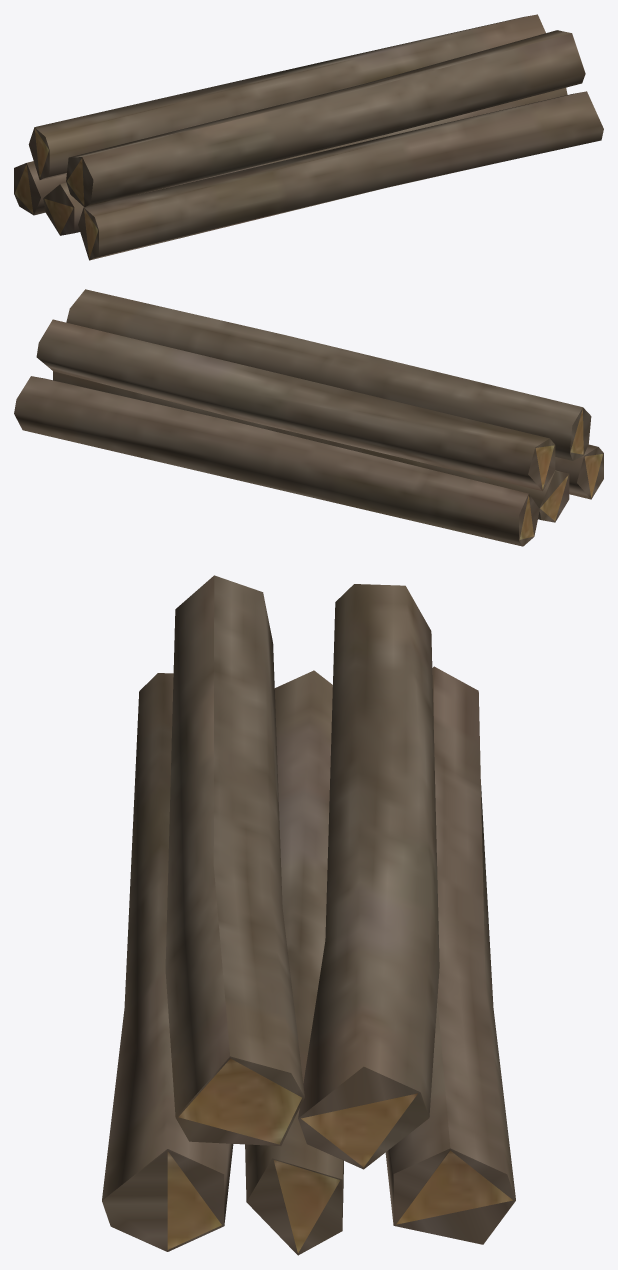
File: log-pile-s.lod1.glb
The picture shows the model from 3 angles, top to bottom: view 1: azimuth 30°, elevation 25°; view 2: azimuth 150°, elevation 25°; view 3: azimuth 270°, elevation 25°; orthographic projection. The views are drawn at different scales.
Parts seen in each view (by area): view 1: Cylinder.008_Log_0; view 2: Cylinder.008_Log_0; view 3: Cylinder.008_Log_0.
Part boxes in pixels (x1,y1,x2,y2): Cylinder.008_Log_0: (14,14,603,260); Cylinder.008_Log_0: (14,289,603,546); Cylinder.008_Log_0: (102,575,515,1255).
Bounding box in the file's own units: 3.2 × 0.5996 × 1.15.
1 material, 1 textured.
